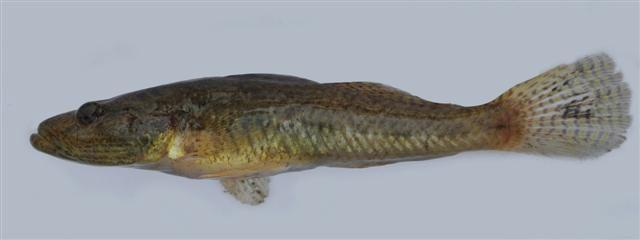Goby: (34, 40, 636, 213)
